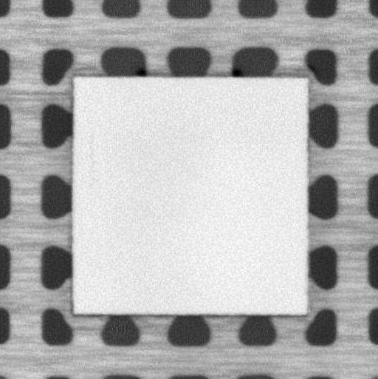DIE_CRACK: (86, 131, 99, 179)
